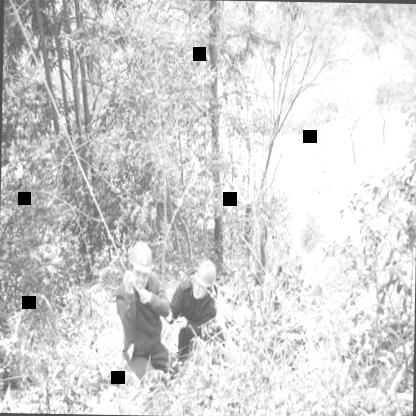helmet: (126, 237, 156, 287), (190, 256, 218, 300)
